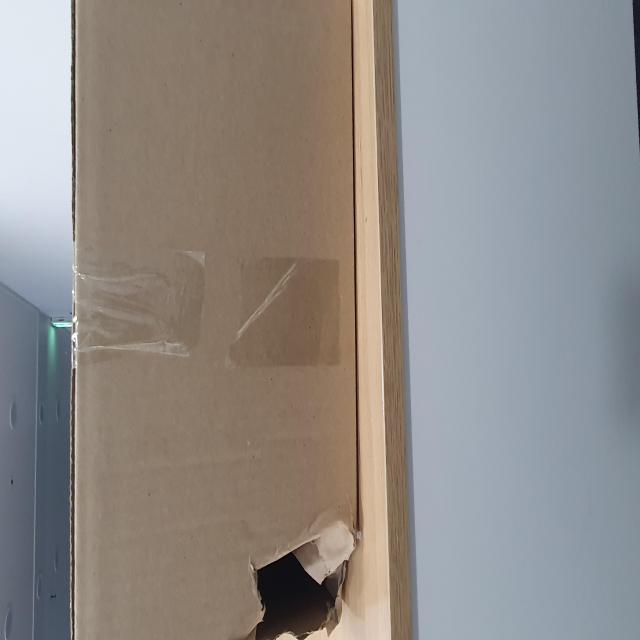damaged: (0, 430, 68, 638)
